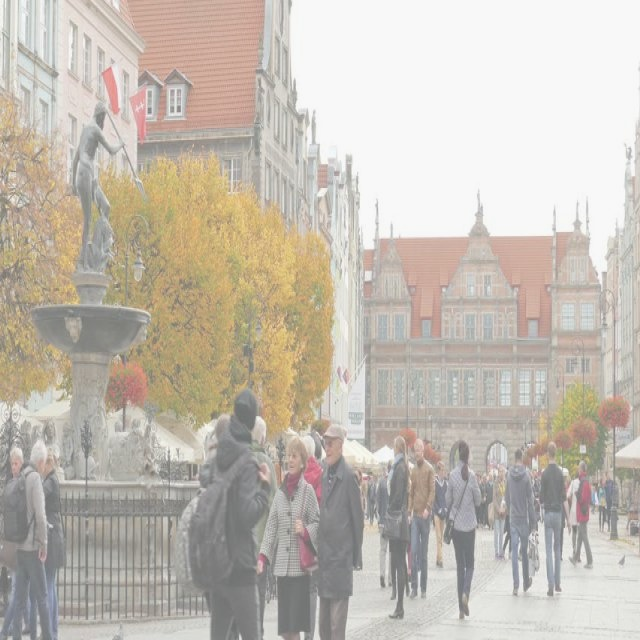pessoa: (187, 386, 274, 638), (252, 429, 320, 639), (310, 418, 365, 638), (64, 93, 120, 284), (198, 411, 240, 638), (10, 438, 55, 638), (444, 440, 482, 620), (250, 412, 280, 639), (537, 438, 574, 598), (380, 432, 411, 622), (503, 446, 541, 598), (404, 434, 436, 600), (42, 444, 68, 639), (300, 433, 324, 639), (384, 451, 412, 602), (566, 457, 594, 571), (374, 457, 396, 591), (473, 464, 509, 531), (354, 464, 386, 528), (432, 458, 450, 570), (490, 463, 508, 561), (565, 467, 583, 565), (526, 466, 542, 544), (44, 420, 72, 464), (307, 429, 328, 472), (602, 468, 614, 534), (499, 508, 514, 560), (27, 581, 40, 639), (212, 408, 232, 444), (596, 477, 607, 535), (558, 502, 566, 562), (10, 446, 25, 476), (4, 609, 16, 636), (563, 473, 572, 496), (590, 485, 596, 516), (444, 470, 451, 488)
